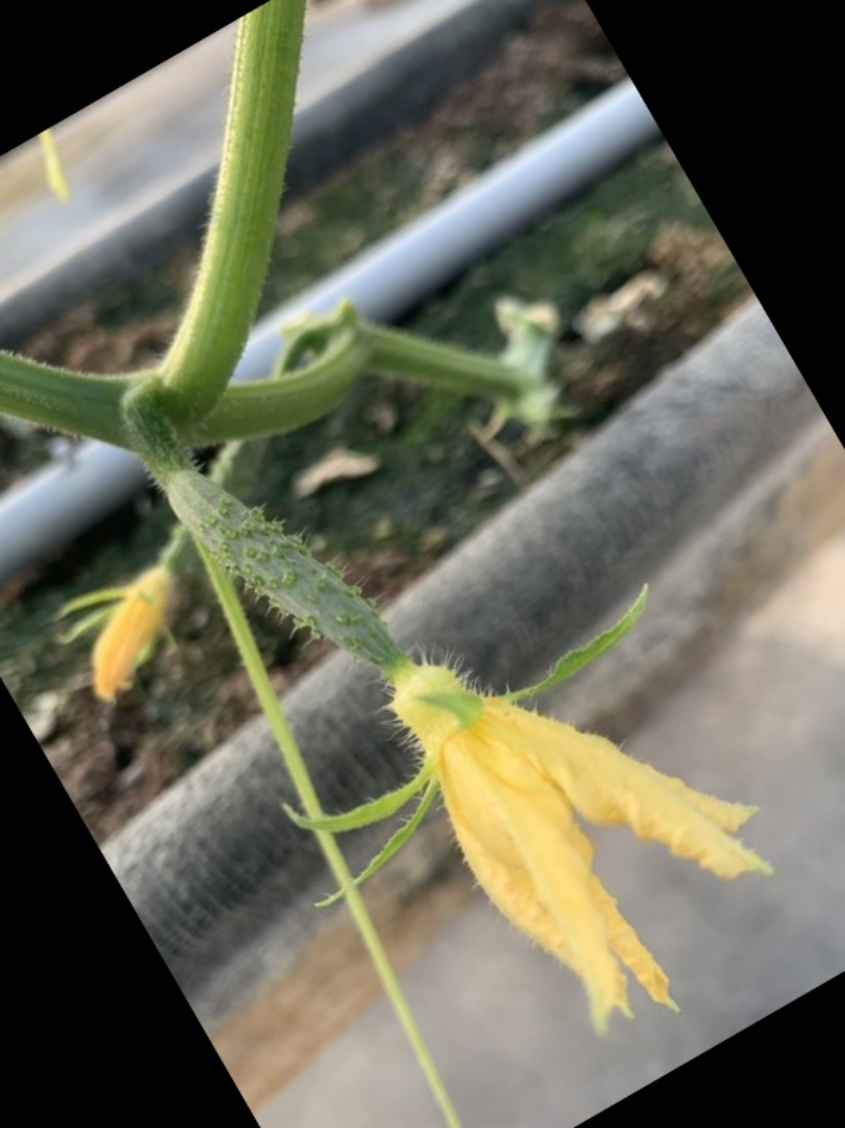bear: (192, 433, 734, 987)
